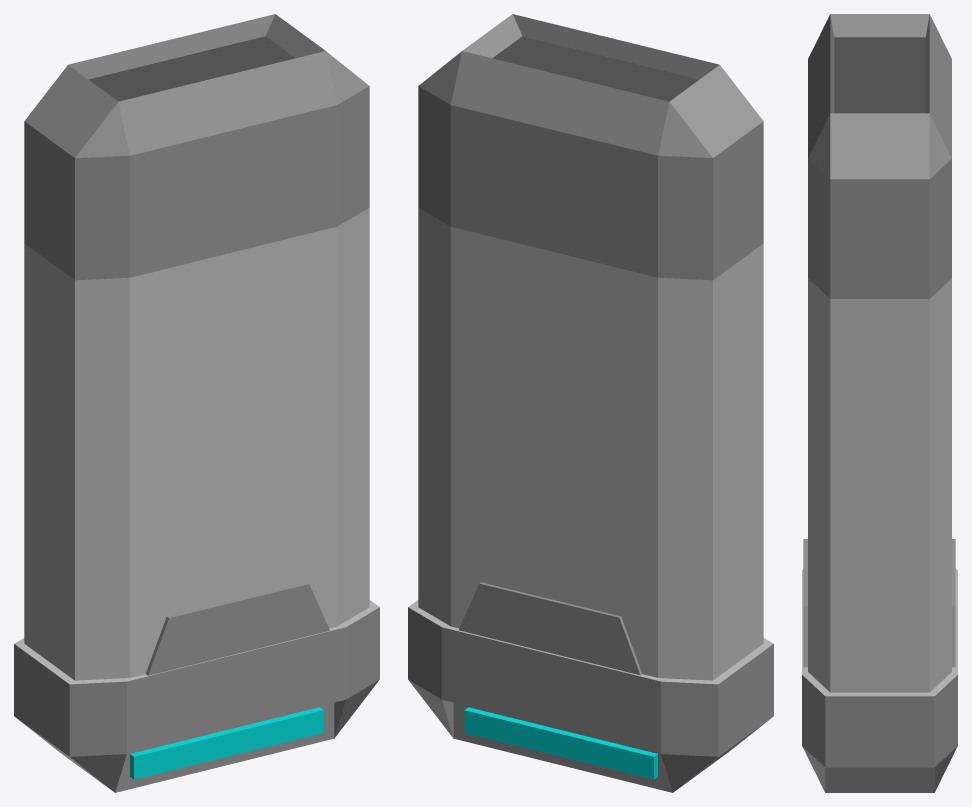
Rendered from SM_Mag_S.fbx.
The picture shows the model from 3 angles, left to right: view 1: azimuth 30°, elevation 25°; view 2: azimuth 150°, elevation 25°; view 3: azimuth 270°, elevation 25°; orthographic projection.
Visible parts, largest first — view 1: SM_Mag_S; view 2: SM_Mag_S; view 3: SM_Mag_S.
Boxes of the visible parts, bbox=[...] form: SM_Mag_S: bbox=[14, 14, 379, 792]; SM_Mag_S: bbox=[408, 14, 773, 792]; SM_Mag_S: bbox=[802, 14, 957, 792].
Size of the model in its own units: 4.68 by 9.91 by 2.06.
